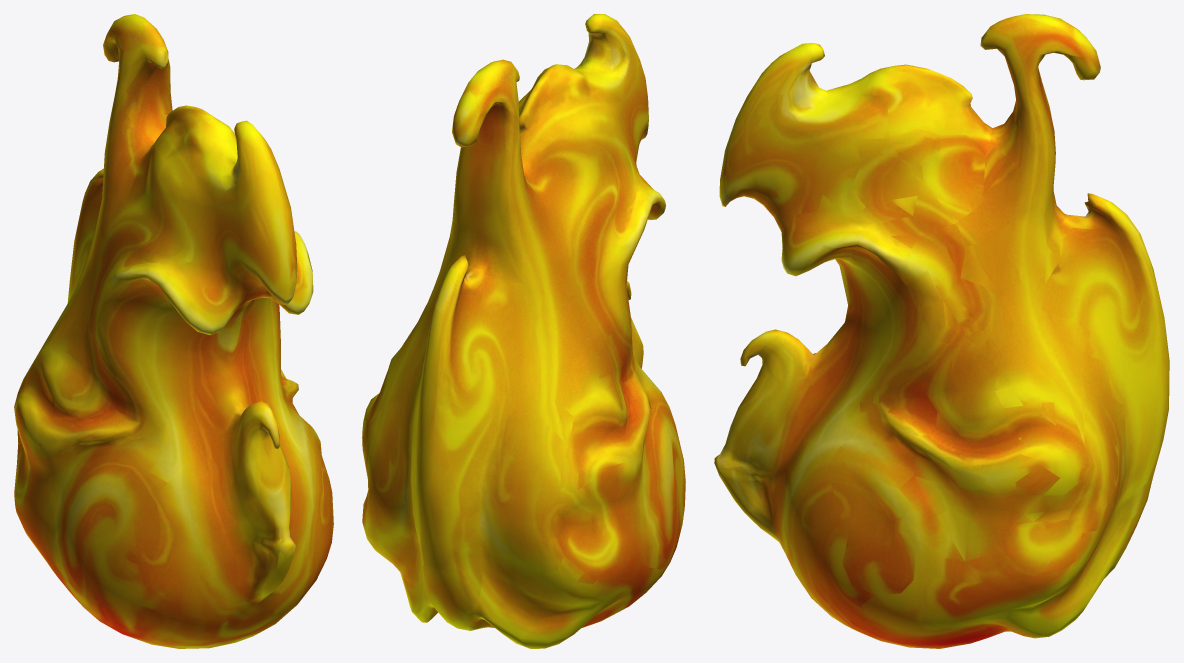
The picture shows the model from 3 angles, left to right: view 1: azimuth 30°, elevation 25°; view 2: azimuth 150°, elevation 25°; view 3: azimuth 270°, elevation 25°; orthographic projection. The views are drawn at different scales.
Parts seen in each view (by area): view 1: model; view 2: model; view 3: model.
Boxes of the visible parts, x1=… form: model: x1=14, y1=14, x2=333, y2=648; model: x1=362, y1=14, x2=685, y2=648; model: x1=714, y1=14, x2=1169, y2=648.
Bounding box in the file's own units: 0.4734 × 1.05 × 0.7029.
1 material, 1 textured.
